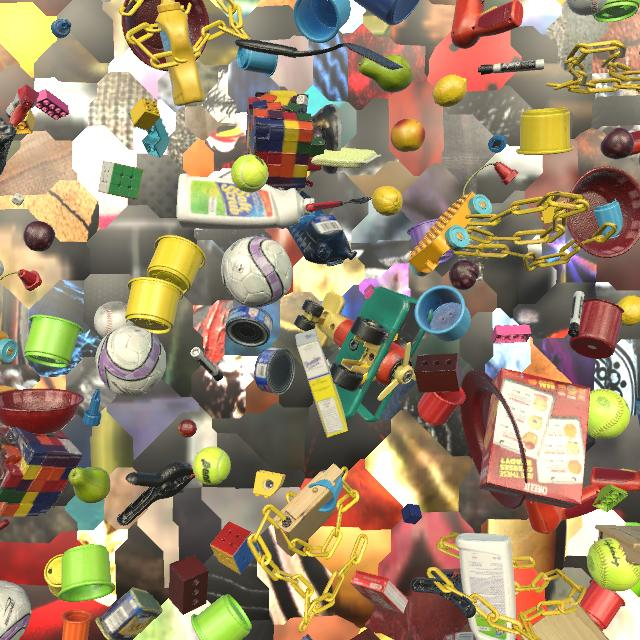ycb_003_cracker_box: (479, 368, 591, 509), (443, 630, 476, 640)
ycb_004_sugar_box: (295, 329, 348, 438)
ycb_006_mustard_bottle: (155, 0, 206, 106)
ycb_007_tuna_fish_can: (225, 305, 273, 347), (254, 347, 295, 395)
ycb_009_gelatin_box: (351, 570, 409, 614)
ycb_010_potted_meat_can: (96, 587, 163, 640)
ycb_011_banana: (360, 333, 398, 385)
ycb_014_lemon: (433, 74, 467, 107), (372, 186, 403, 216), (617, 295, 640, 326)
ycb_015_peach: (390, 119, 425, 152)
ycb_016_pear: (358, 54, 413, 93), (68, 467, 111, 503)
ycb_018_plum: (600, 127, 634, 159), (23, 221, 55, 252), (449, 260, 479, 290)
